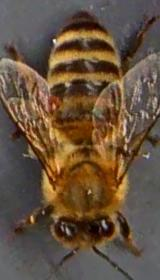varroa_mite: (44, 88, 68, 116)
